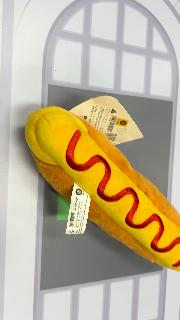hotdog: (24, 105, 180, 272)
